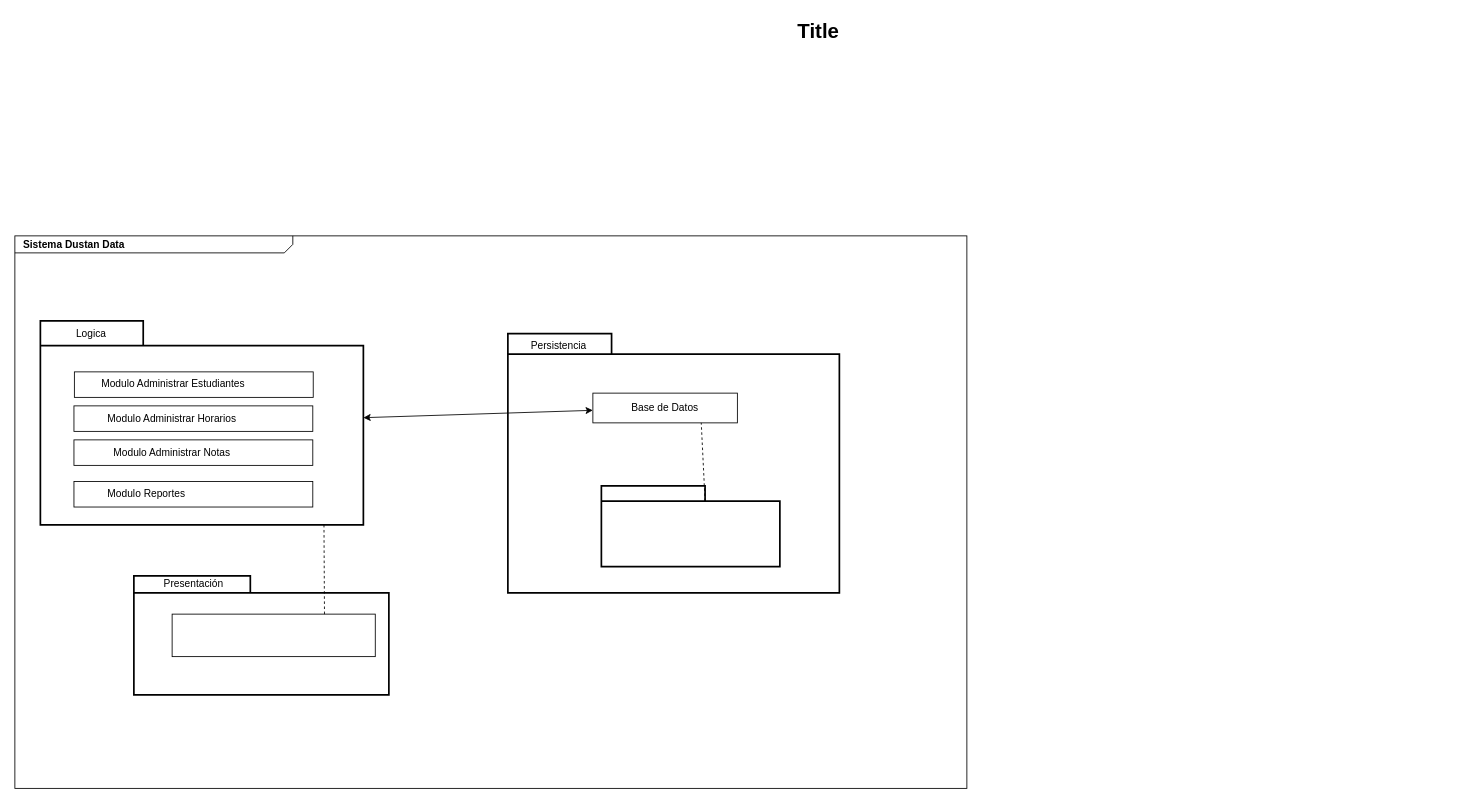
Image size: 1475x803. Some labels were removed from this diagram. Here are the shapes that lost their labels. From the top down, the centre of each, then its label:
point (690, 525): ESTRUCTURA DE DATOS
point (273, 635): INTERFAZ GRAFICA
